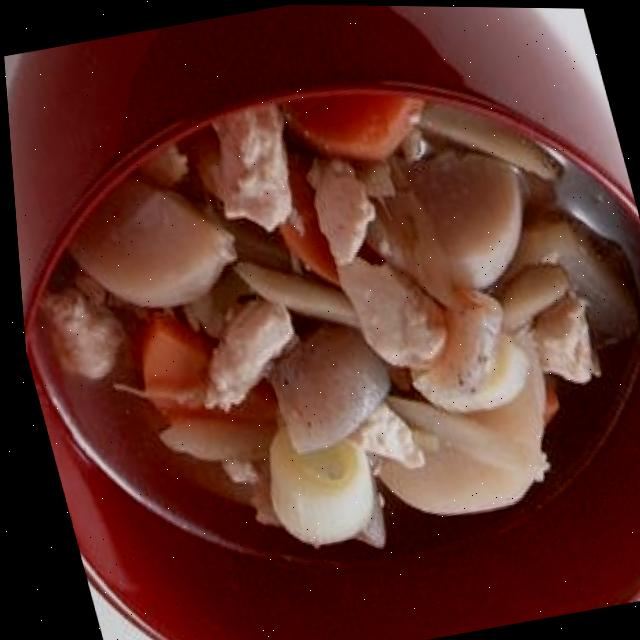蔬菜料理: (2, 29, 640, 640)
